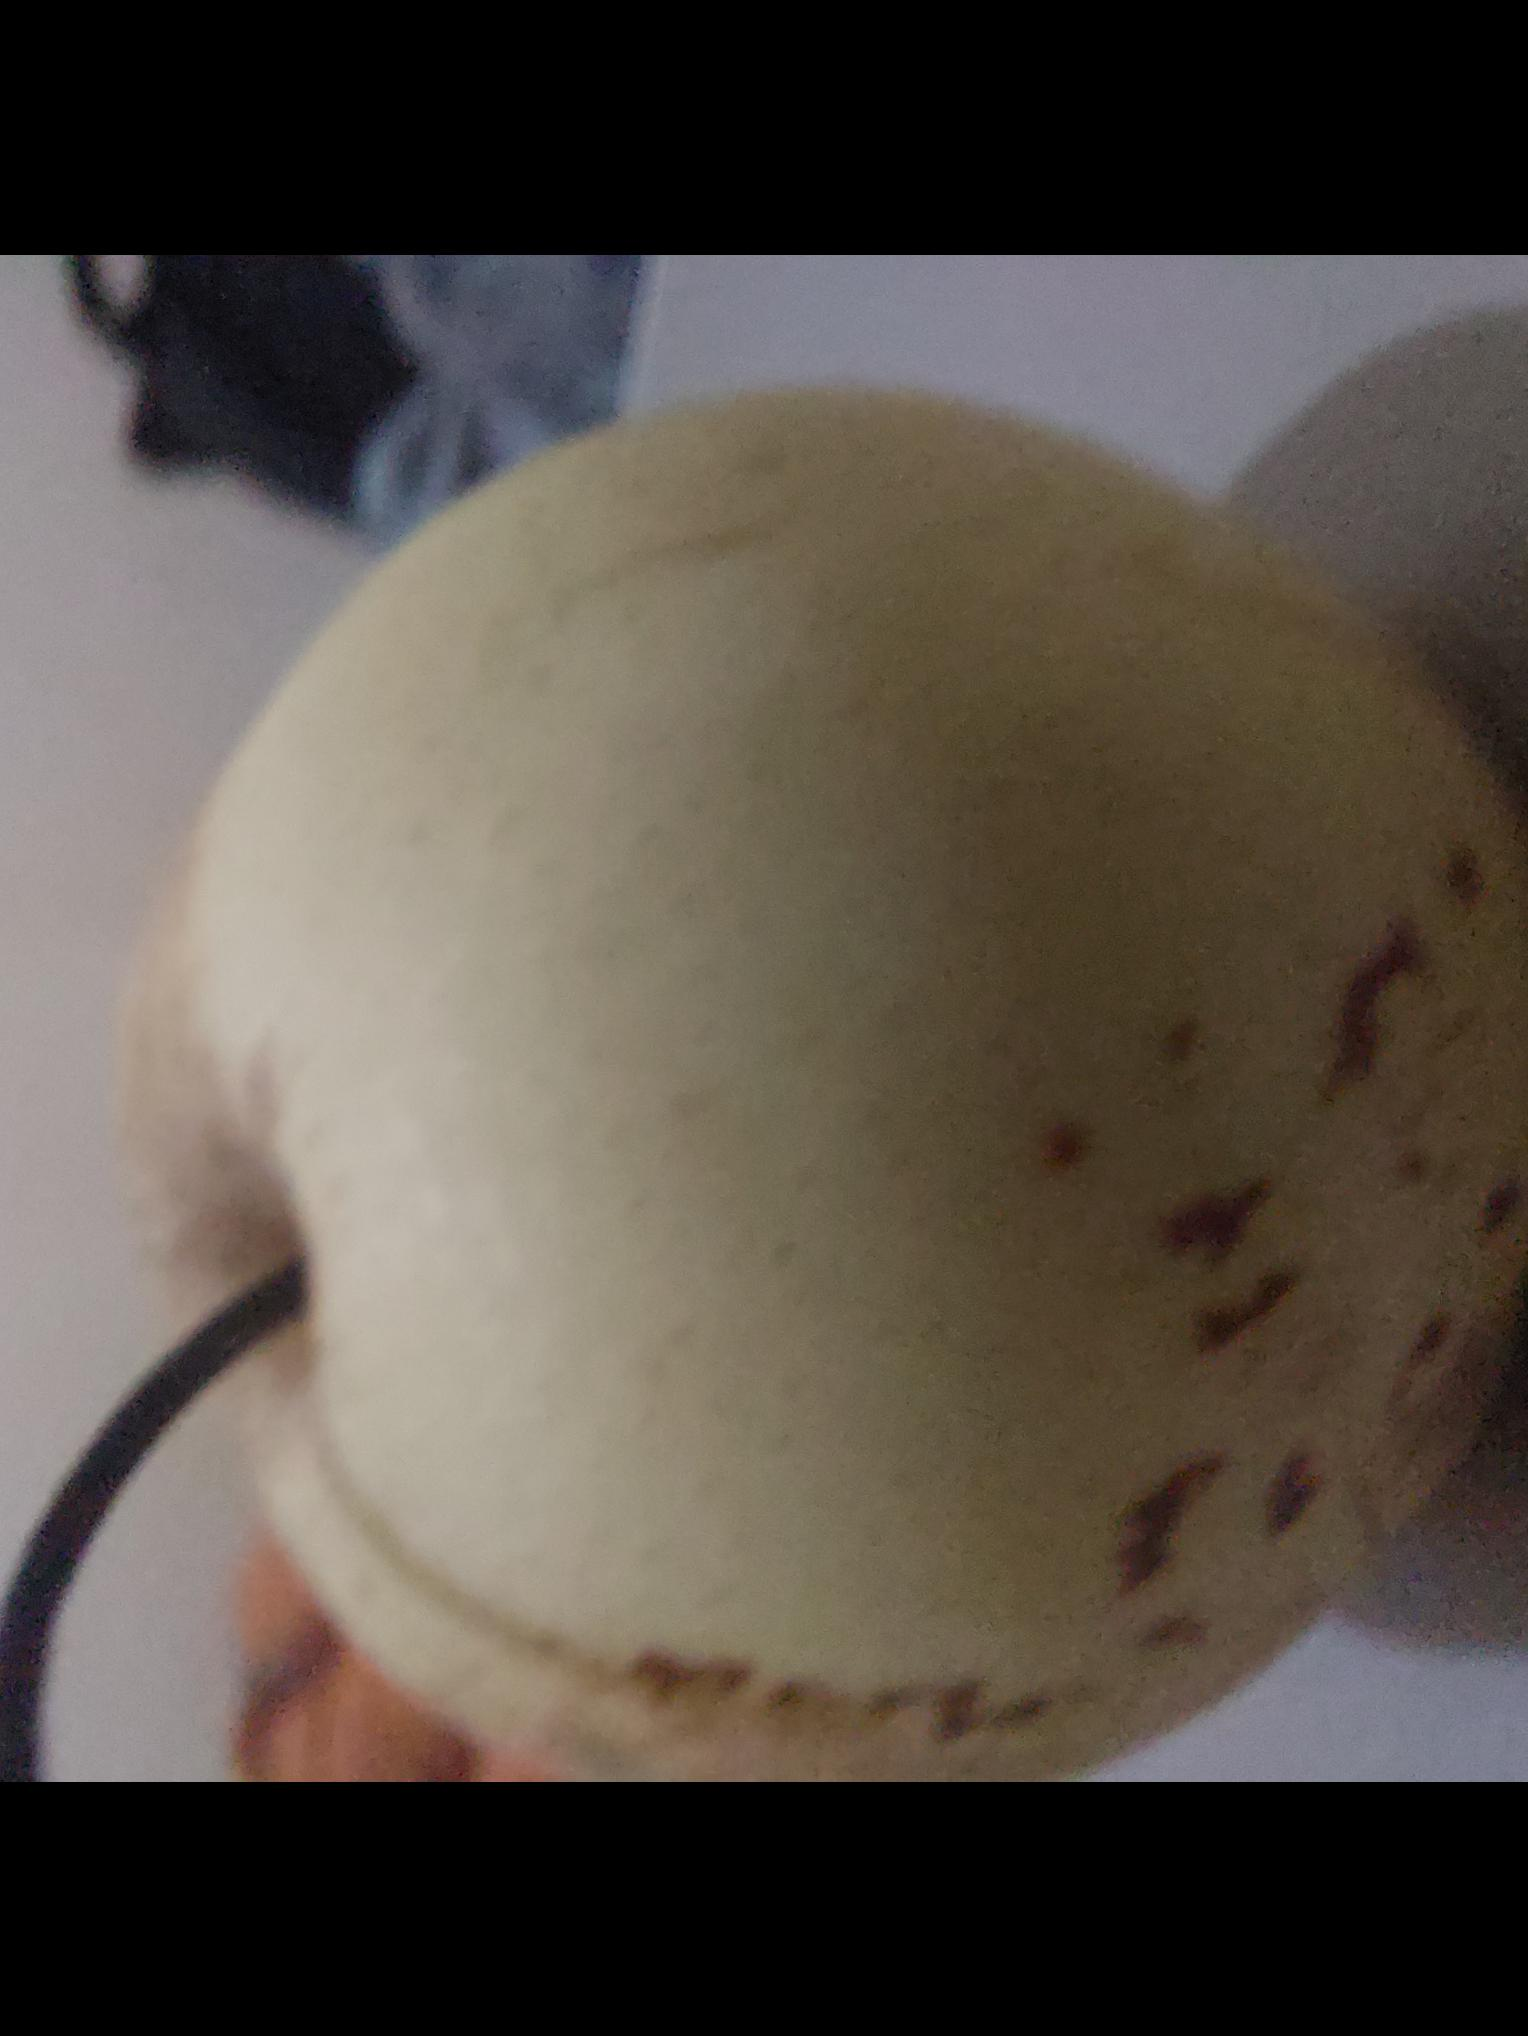Bad Pear: (96, 337, 1528, 1783)
